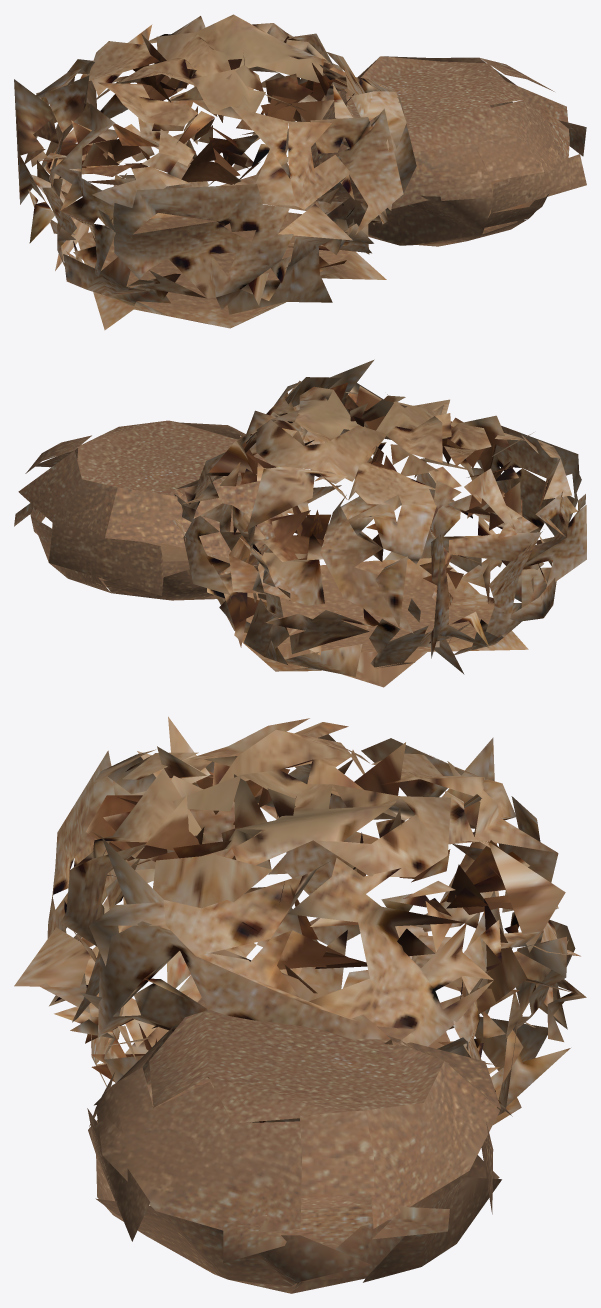
File: desert_pebble_b_pair_lod1.glb
3 renders of one model, top to bottom at view 1: azimuth 30°, elevation 25°; view 2: azimuth 150°, elevation 25°; view 3: azimuth 270°, elevation 25°, orthographic. The views are drawn at different scales.
Visible parts, largest first — view 1: desert_pebble_b_pair.001; view 2: desert_pebble_b_pair.001; view 3: desert_pebble_b_pair.001.
Part boxes in pixels (x1,y1,x2,y2): desert_pebble_b_pair.001: (14,14,586,330); desert_pebble_b_pair.001: (14,359,586,687); desert_pebble_b_pair.001: (14,716,586,1293).
Size of the model in its own units: 2.39 by 0.9951 by 1.54.
2 materials, 2 textured.
